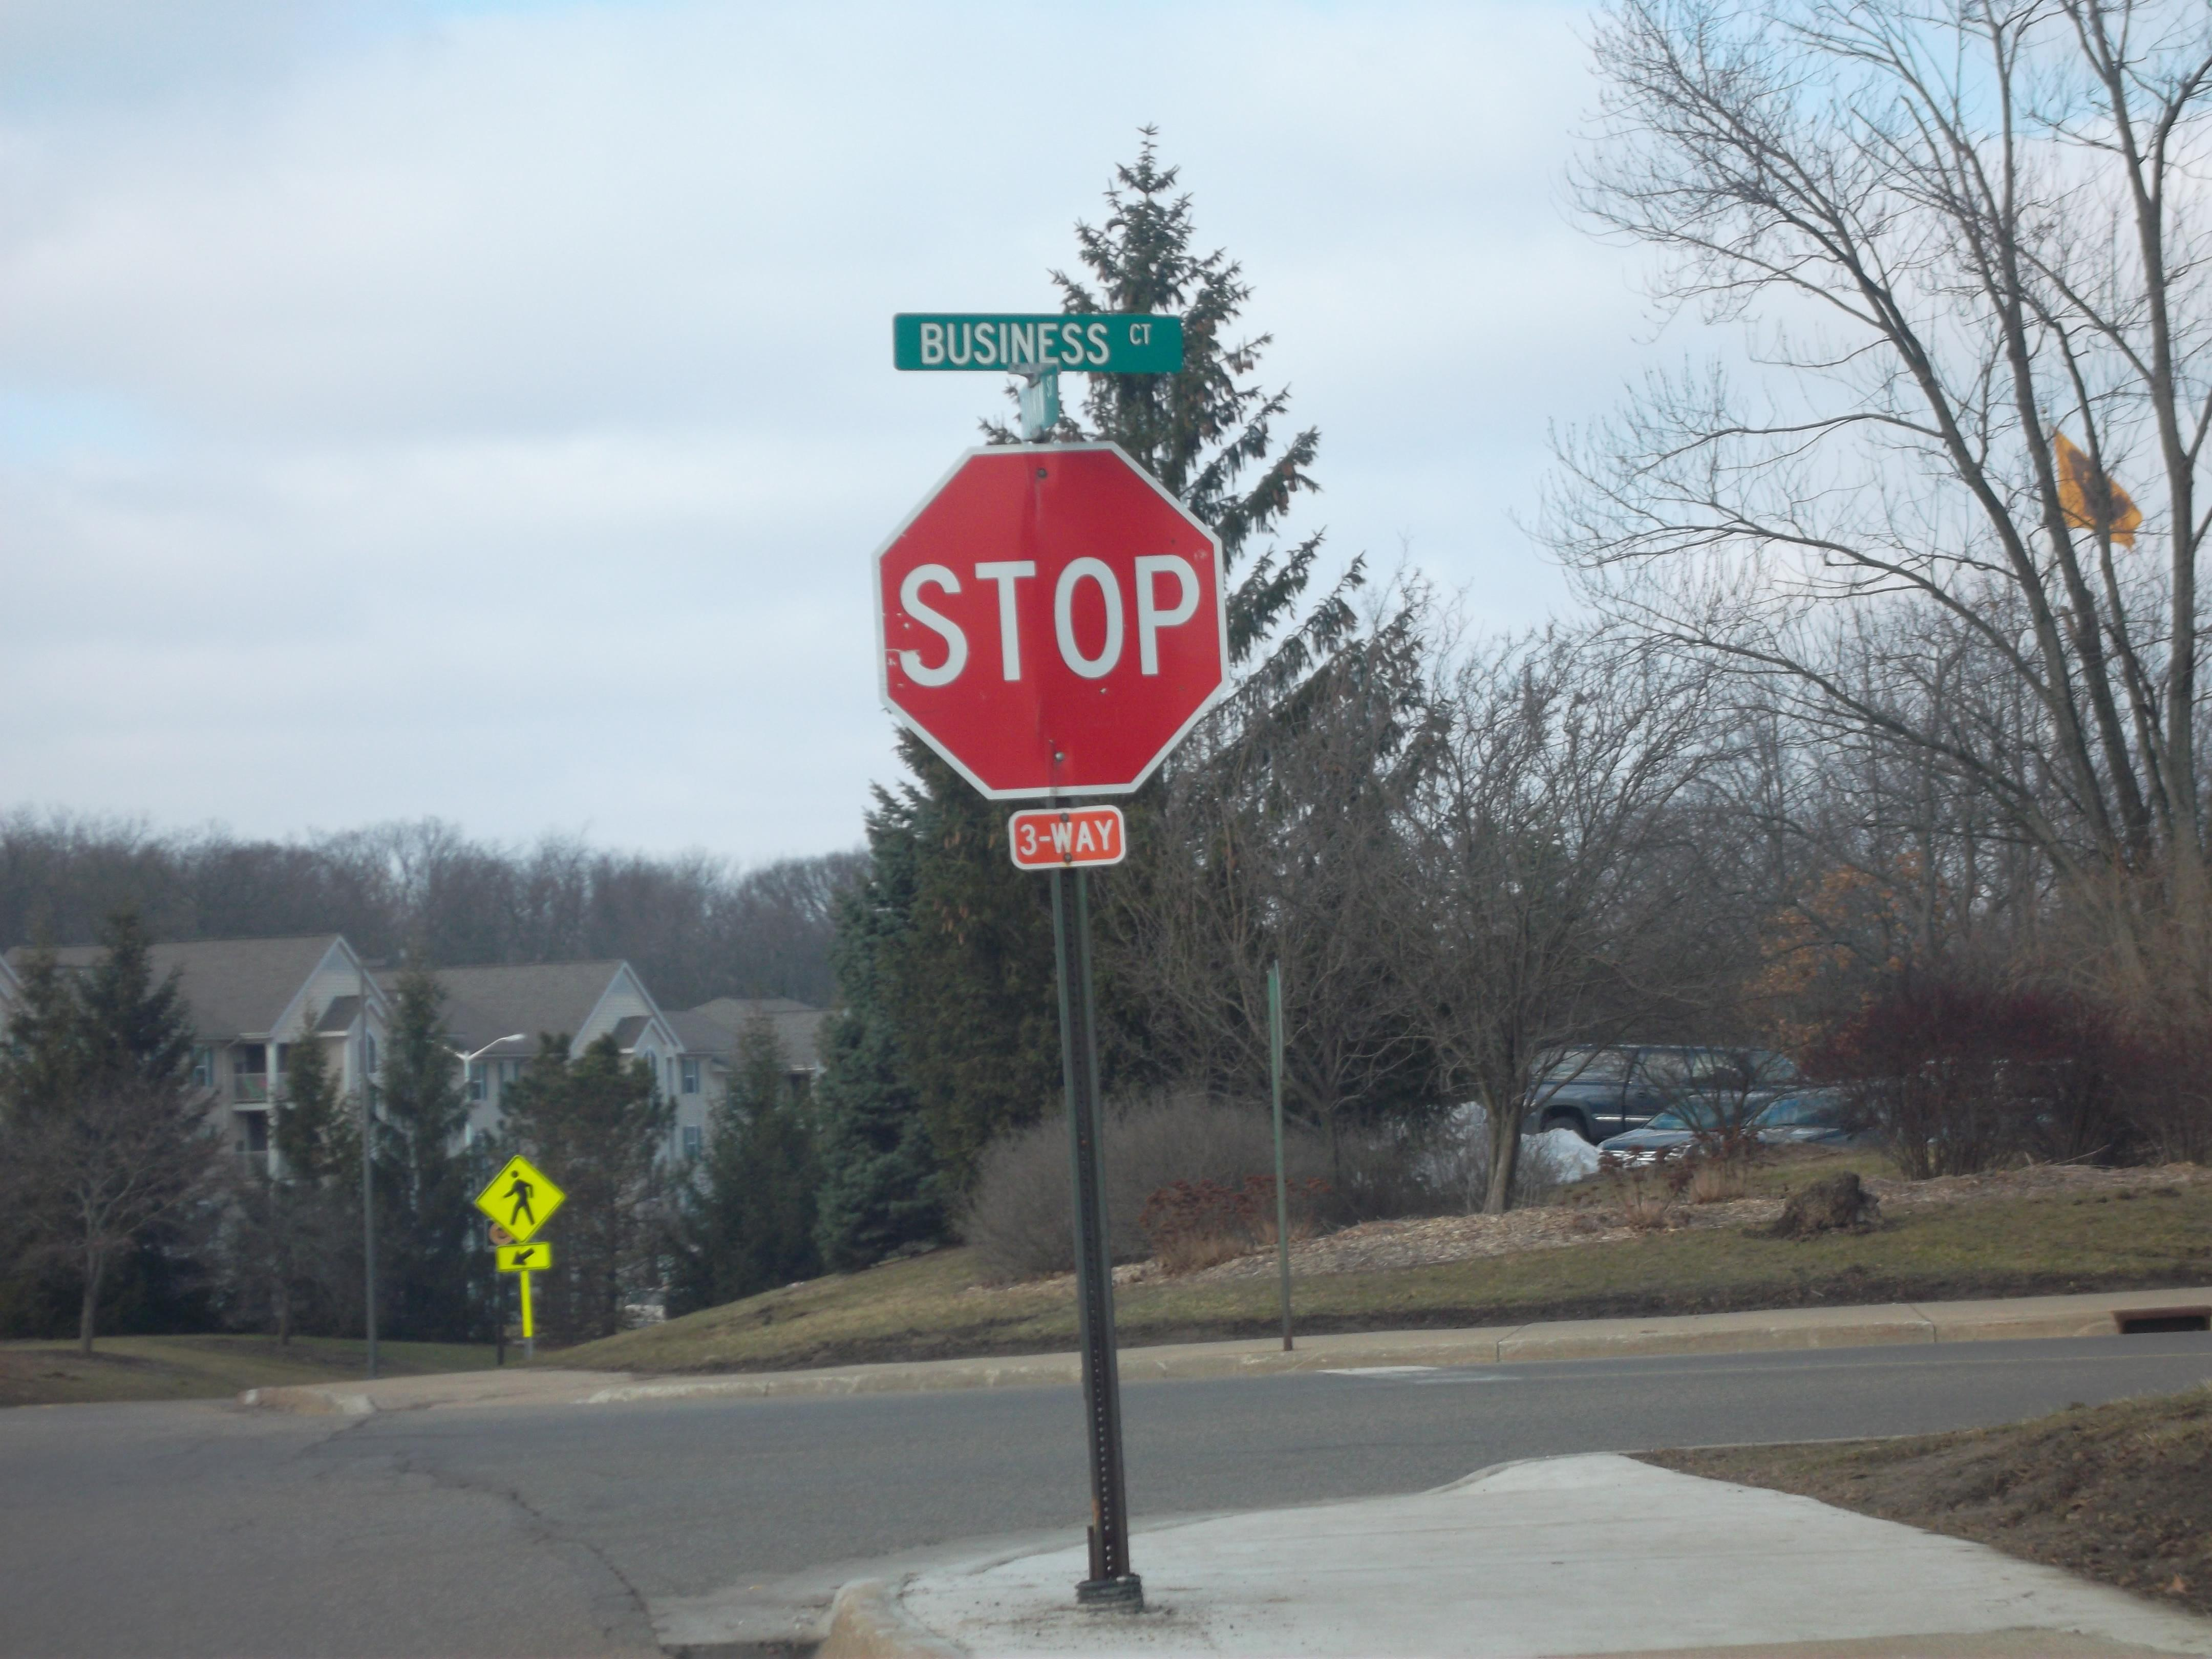stop: (859, 416, 1266, 802)
warning: (470, 1152, 568, 1246), (493, 1241, 556, 1279)
